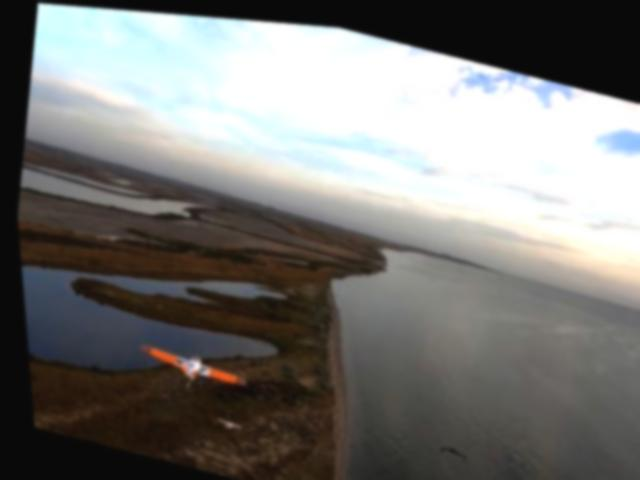uav: (126, 336, 246, 399), (210, 413, 237, 429)
